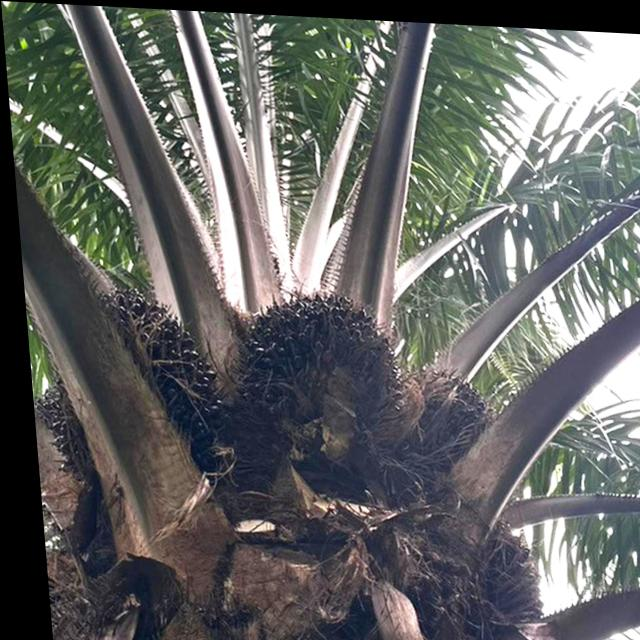unripe: (34, 282, 220, 479), (216, 282, 397, 430), (394, 357, 493, 464)
